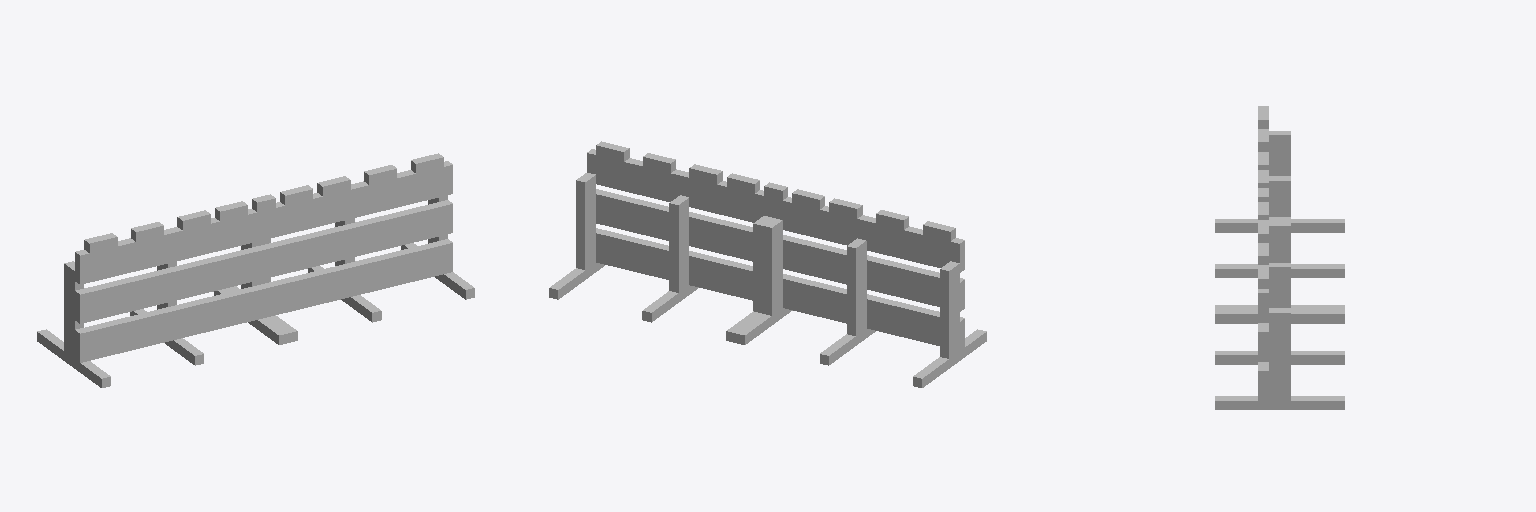
The model's file is Road hazzard block.obj.
3 views of the same model, side by side, from view 1: azimuth 30°, elevation 25°; view 2: azimuth 150°, elevation 25°; view 3: azimuth 270°, elevation 25° (orthographic).
Parts seen in each view (by area): view 1: Road hazzard block; view 2: Road hazzard block; view 3: Road hazzard block.
Boxes of the visible parts, box(x1,y1,x2,y2) form: Road hazzard block: box(37, 153, 474, 387); Road hazzard block: box(549, 141, 986, 387); Road hazzard block: box(1215, 106, 1344, 409).
Bounding box in the file's own units: 40 × 13 × 12.